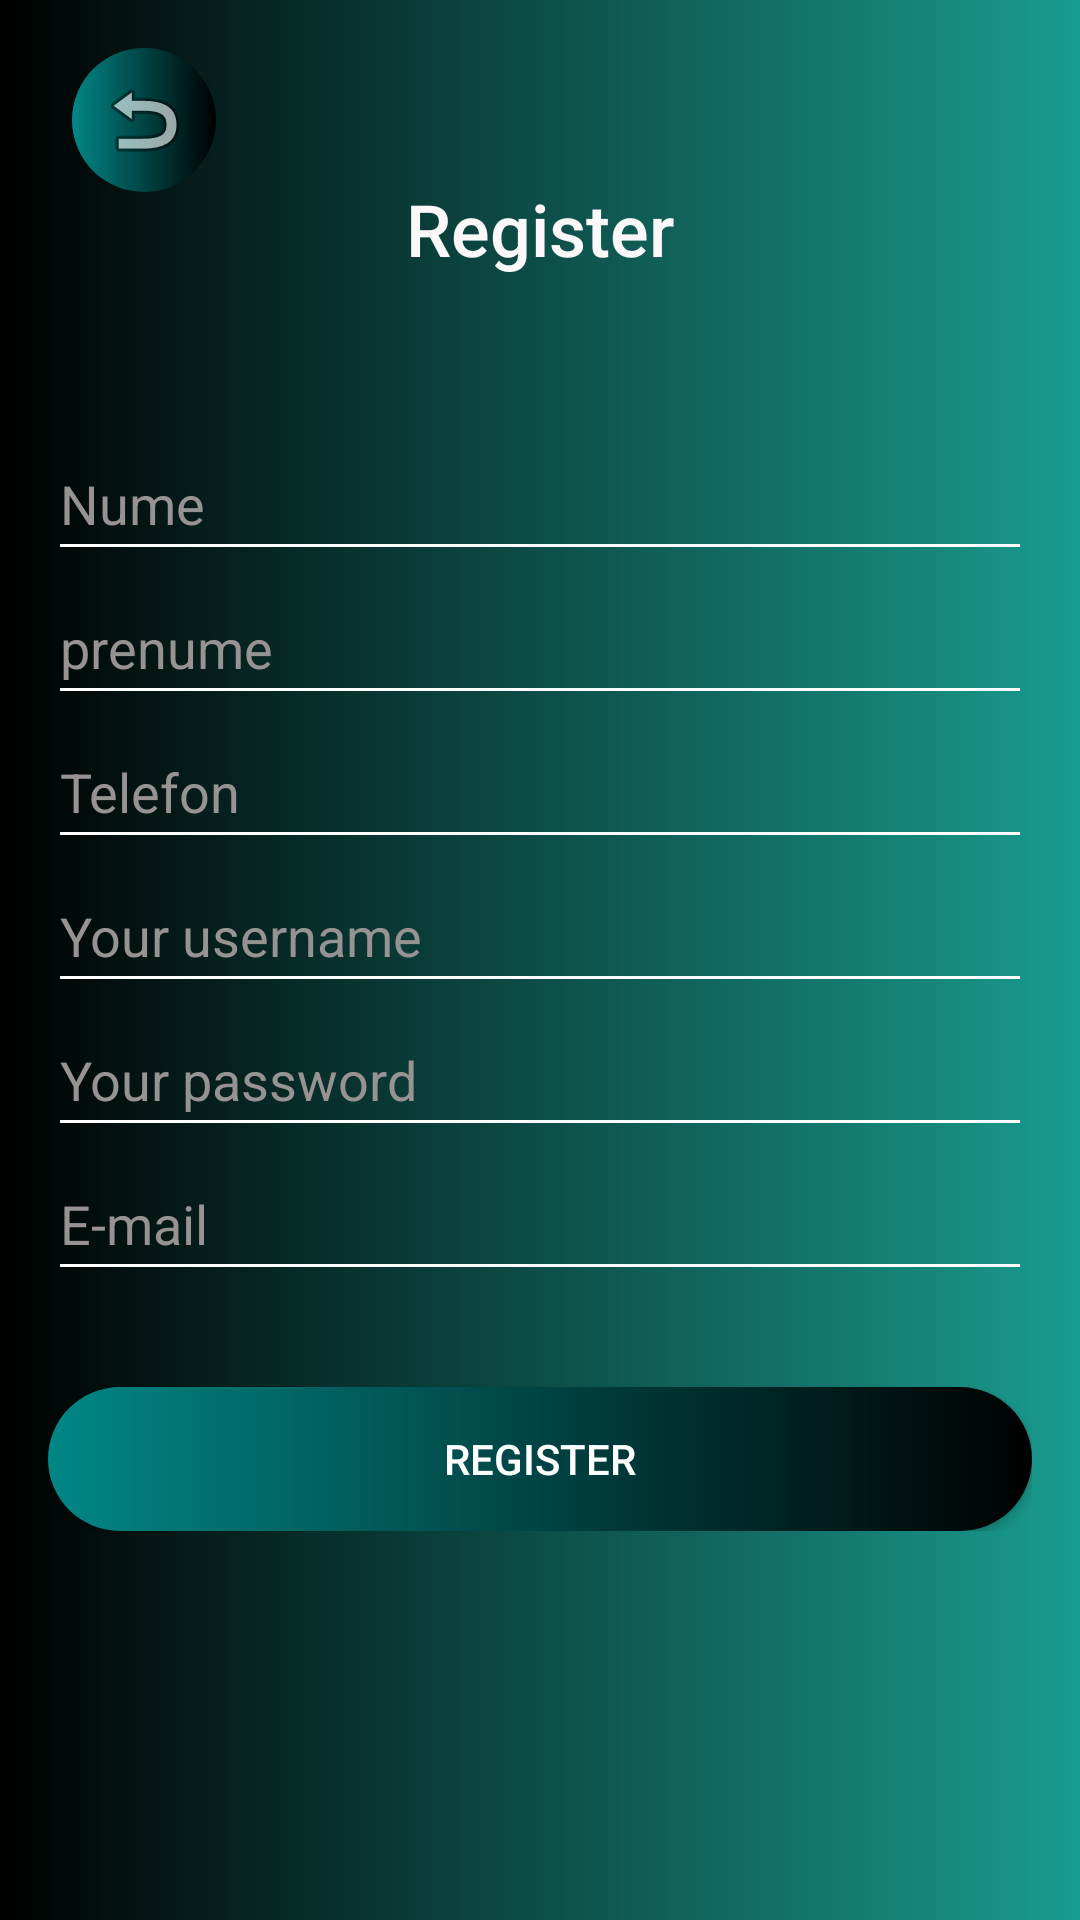

Icon click points for this 1080w x 1920h phone screenshot, format point (x, y):
revert: point (144, 120)
